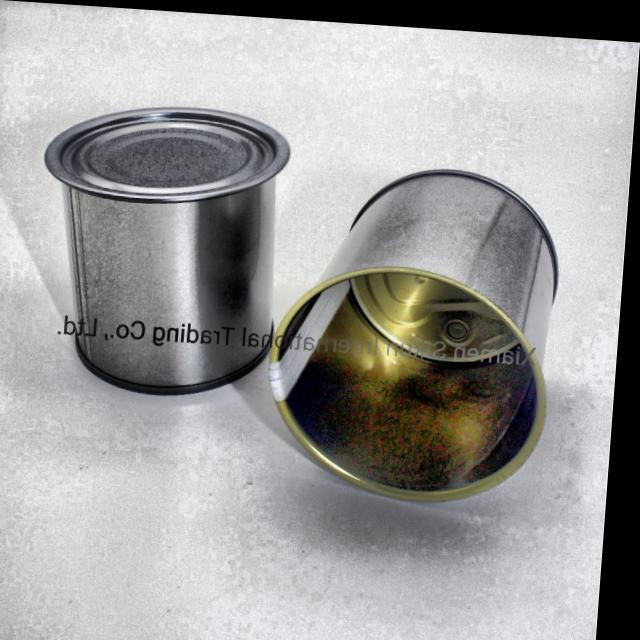can: (260, 147, 580, 510), (30, 87, 307, 401)
